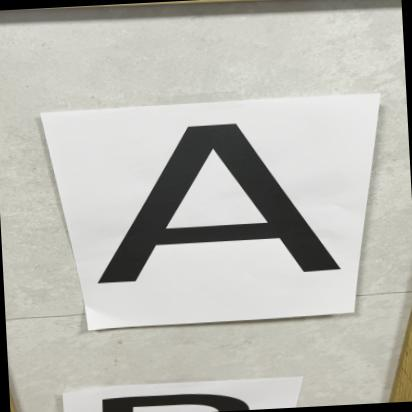seat: (61, 99, 362, 320)
